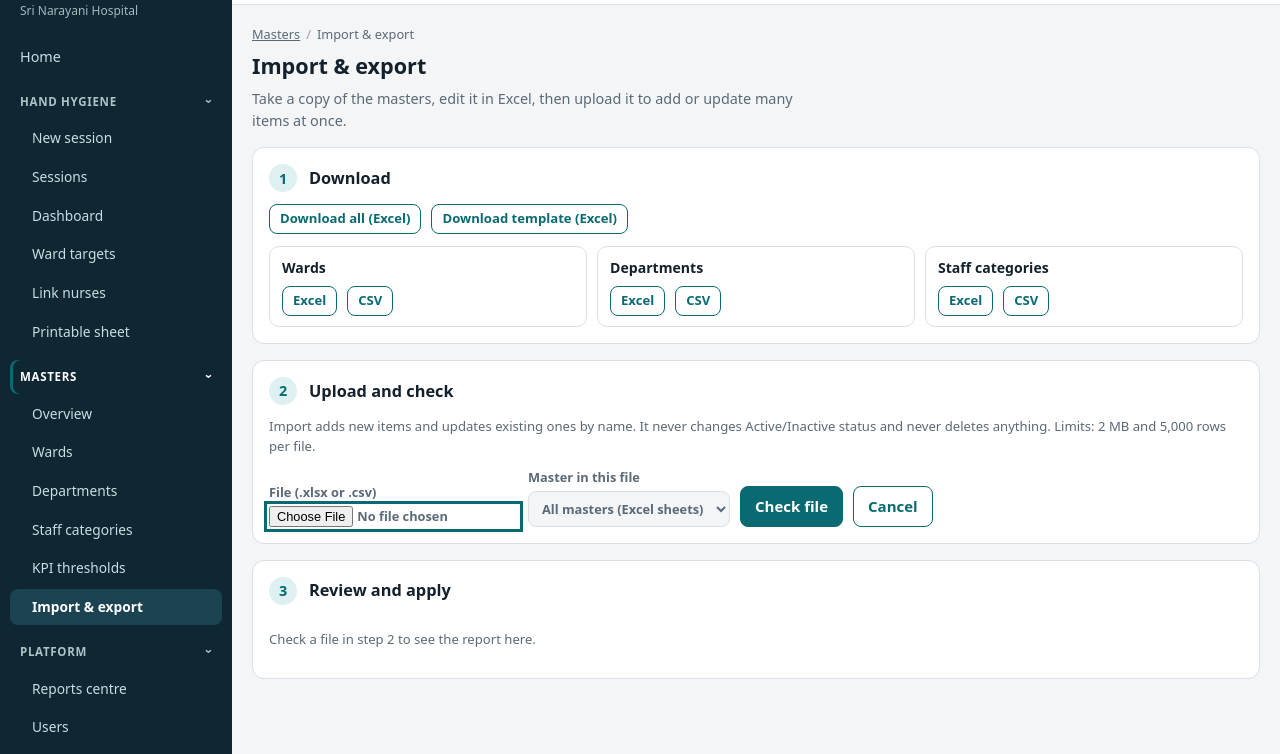
Test case: Import & export page › previews a dry run with errors first and disables Apply
Earlier steps of the test are not shown.
Later steps or results of the test are not shown.
Click the button "Check file": [792, 506] box [740,486,843,526]
(page scrolled)
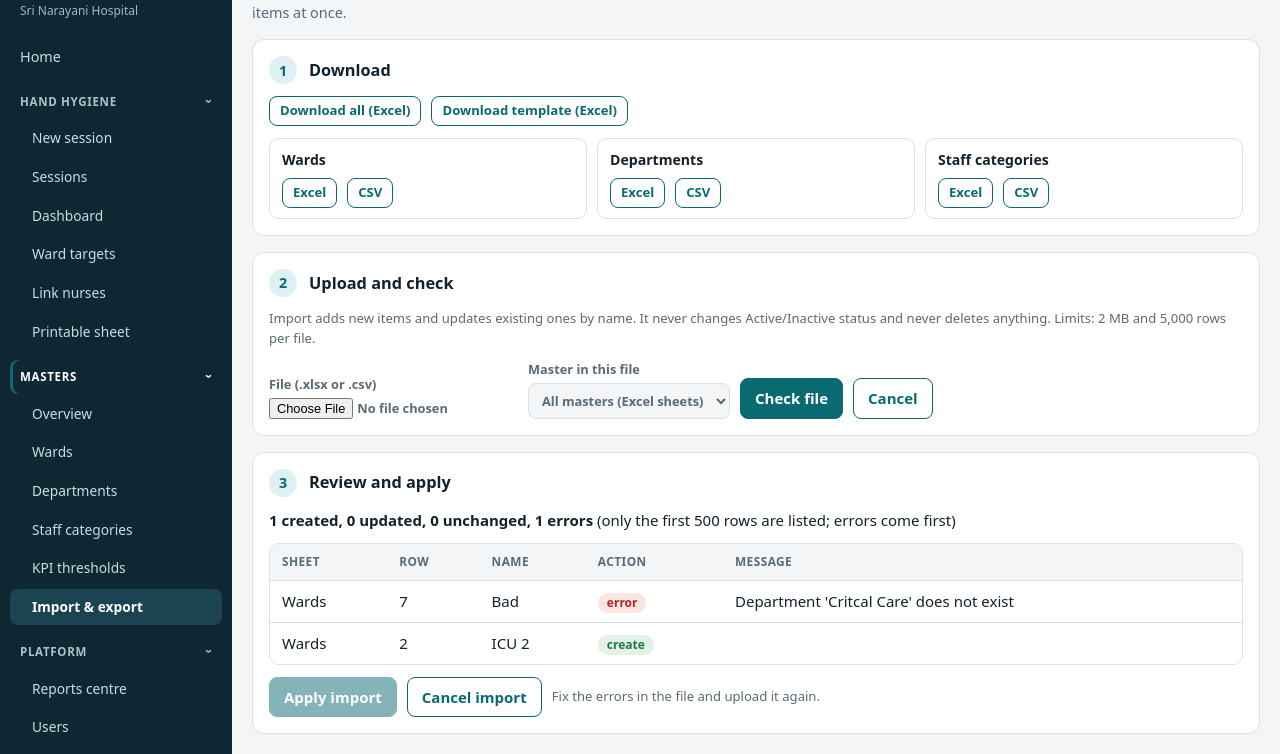
Check: the text "1 created, 0 updated, 0 unchanged, 1 errors" is shown, box [269,510,593,530]
Check: the text "only the first 500 rows" is shown, box [593,510,956,530]
Check: the text "Bad" is shown, box [480,581,586,623]
